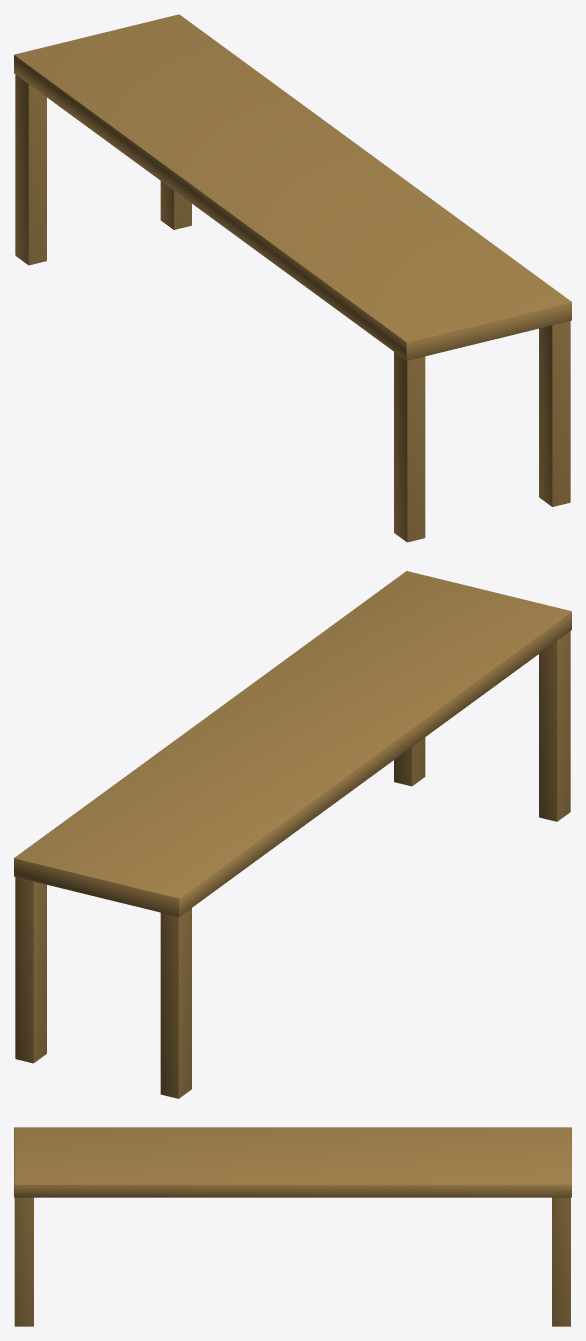
File: kursi_panjang.fbx
The picture shows the model from 3 angles, top to bottom: view 1: azimuth 30°, elevation 25°; view 2: azimuth 150°, elevation 25°; view 3: azimuth 270°, elevation 25°; orthographic projection. The views are drawn at different scales.
Visible parts, largest first — view 1: Cube.006; view 2: Cube.006; view 3: Cube.006.
Part boxes in pixels (x1=…): Cube.006: x1=14, y1=14, x2=571, y2=542; Cube.006: x1=14, y1=571, x2=571, y2=1098; Cube.006: x1=14, y1=1127, x2=571, y2=1326.
Bounding box in the file's own units: 263 × 74.22 × 63.99.
